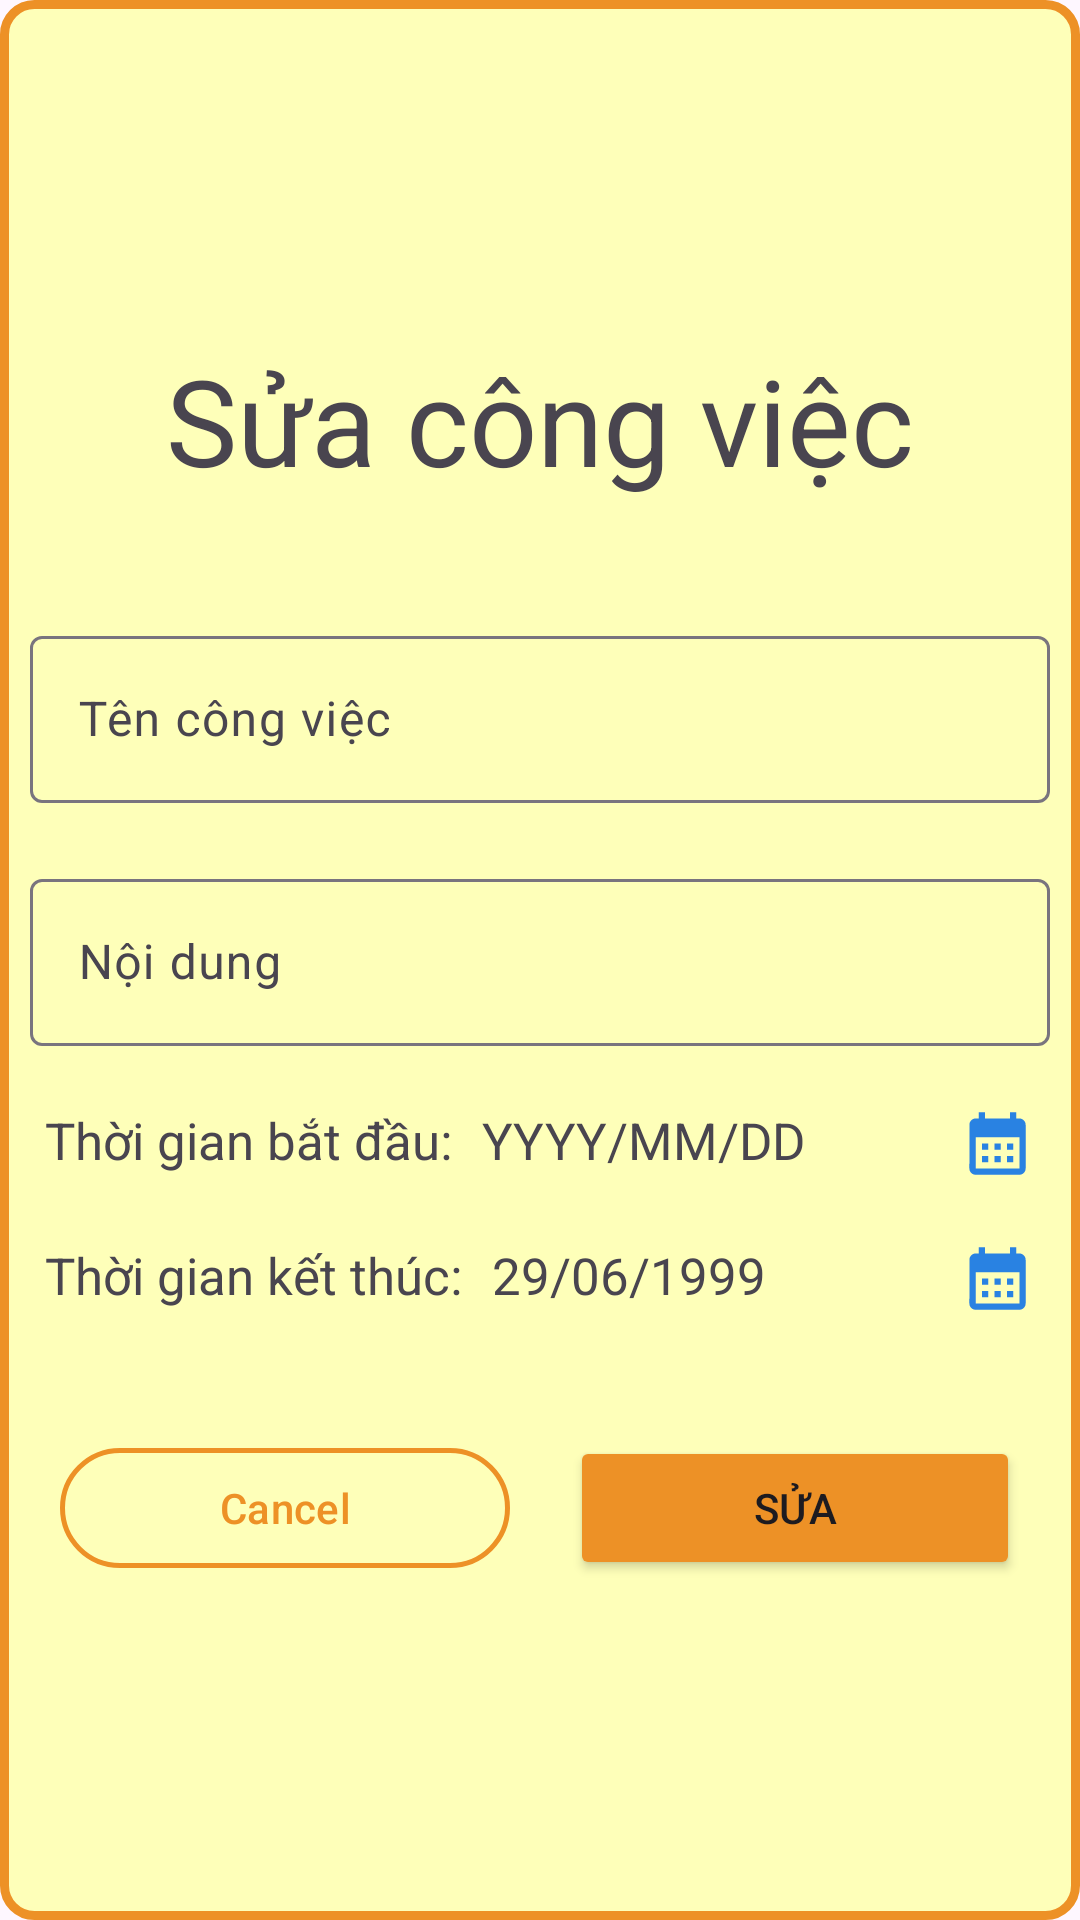

Icons on this 1080×1920 Android screen, each with the point to tap as point (x, y):
calendar month: point (997, 1143), point (997, 1278)
